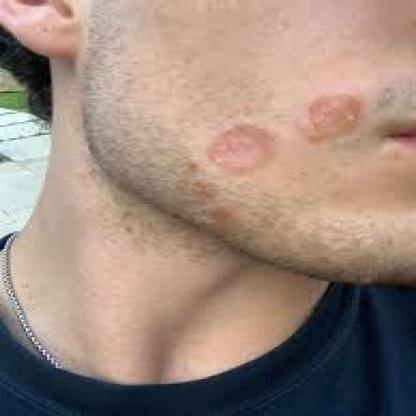Ringworm: (194, 111, 296, 177), (304, 87, 376, 150)
